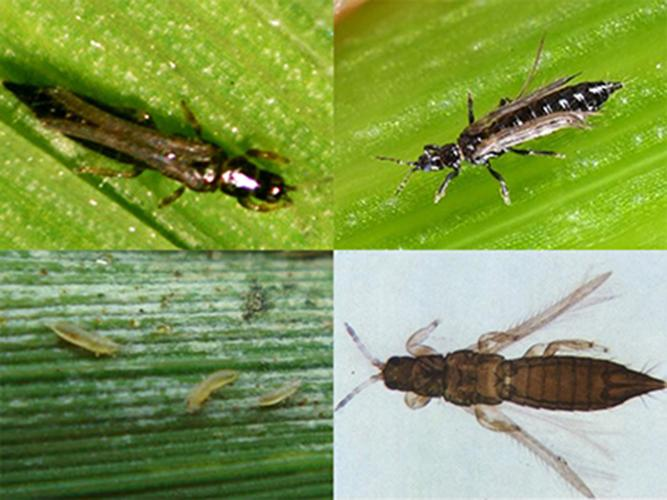Phlaeothripidae: (337, 272, 667, 500), (374, 36, 625, 212), (3, 78, 297, 220)
